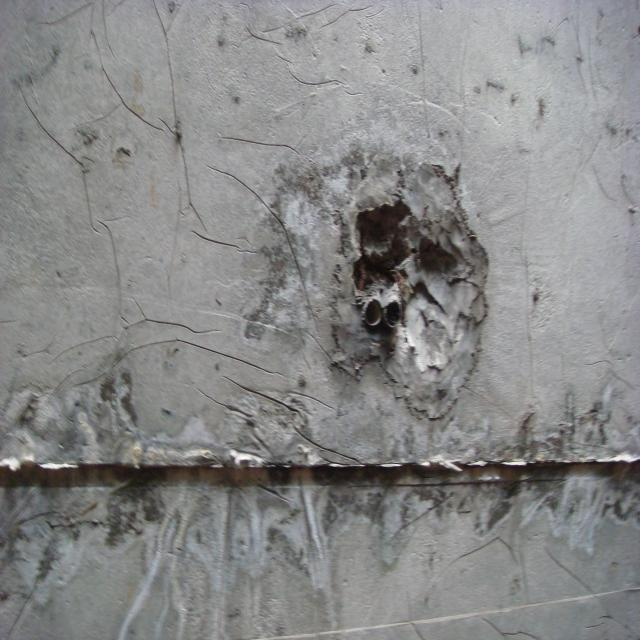concrete spalling: (328, 146, 491, 424)
